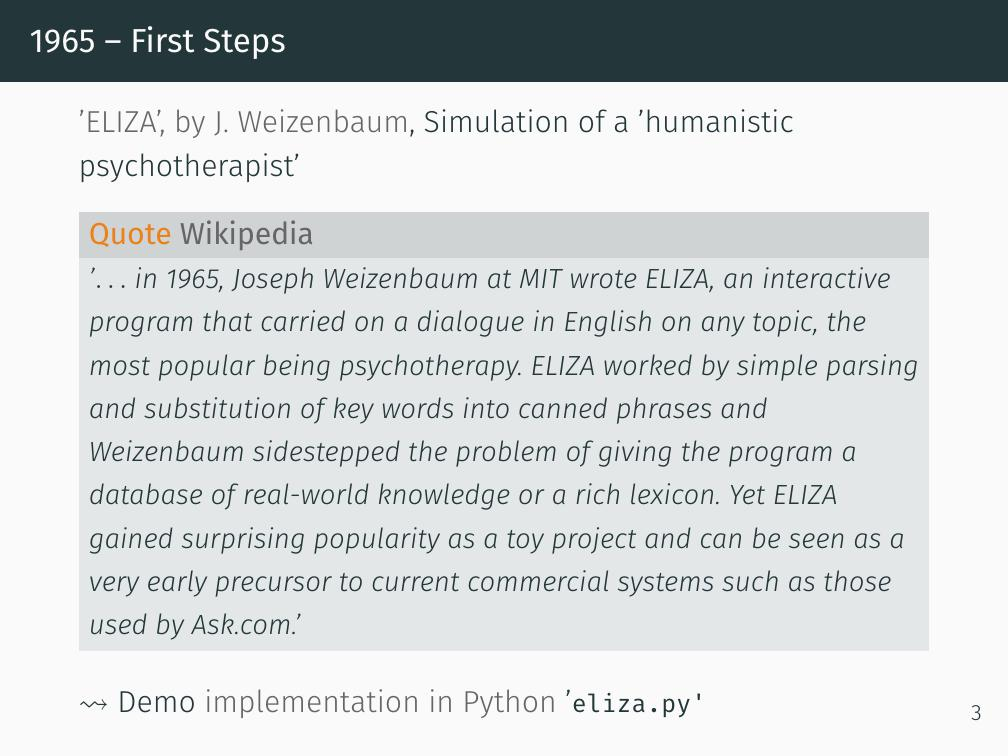Title: (16, 25, 294, 69)
